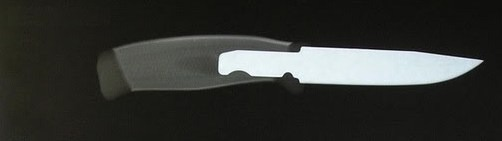knife: (90, 30, 486, 102)
